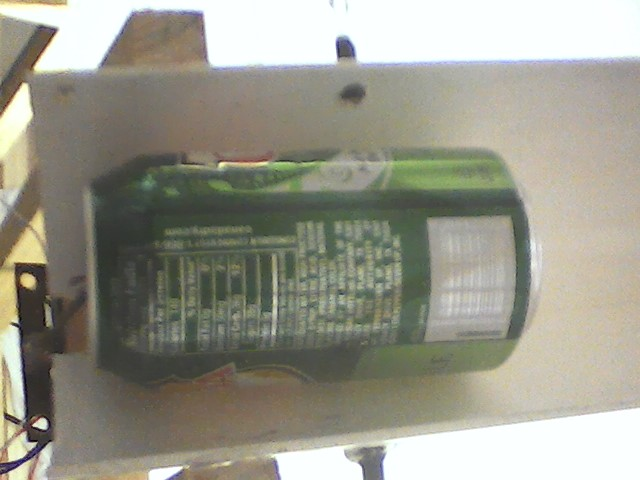lata: (75, 137, 549, 407)
